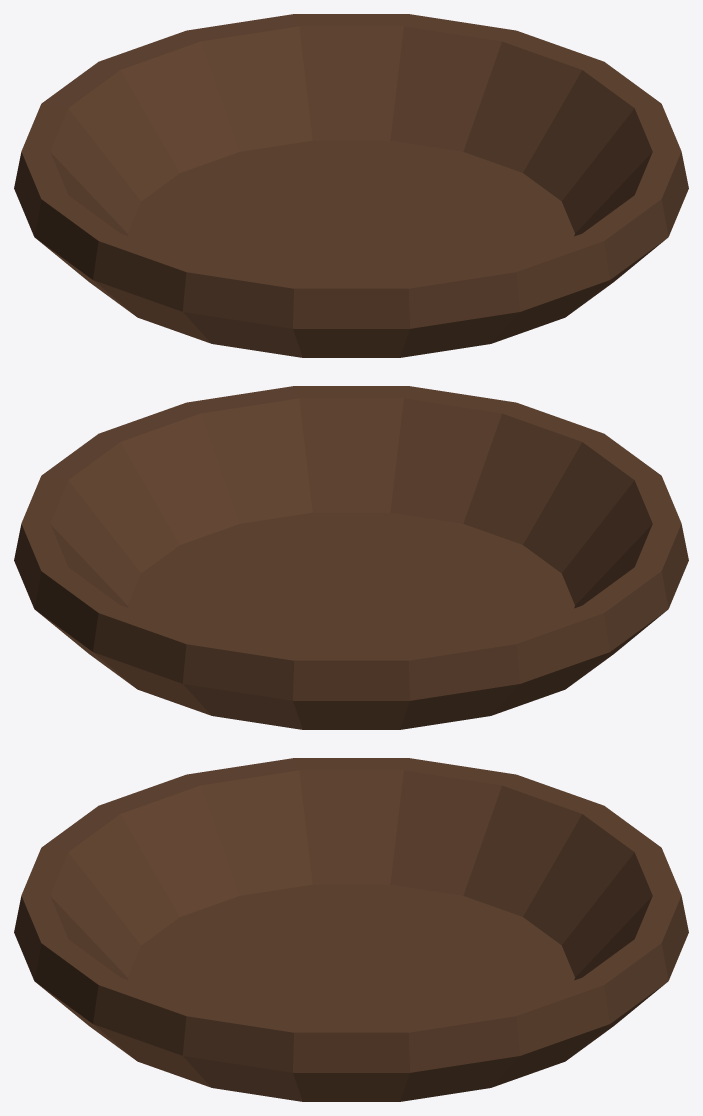
Rendered from Bowl_1.fbx.
3 renders of one model, top to bottom at view 1: azimuth 30°, elevation 25°; view 2: azimuth 150°, elevation 25°; view 3: azimuth 270°, elevation 25°, orthographic.
Visible parts, largest first — view 1: Bowl_1; view 2: Bowl_1; view 3: Bowl_1.
Boxes of the visible parts, box(x1,y1,x2,y2) form: Bowl_1: box(14, 14, 688, 357); Bowl_1: box(14, 386, 688, 729); Bowl_1: box(14, 758, 688, 1101).
Size of the model in its own units: 32.75 by 4.91 by 33.26.
